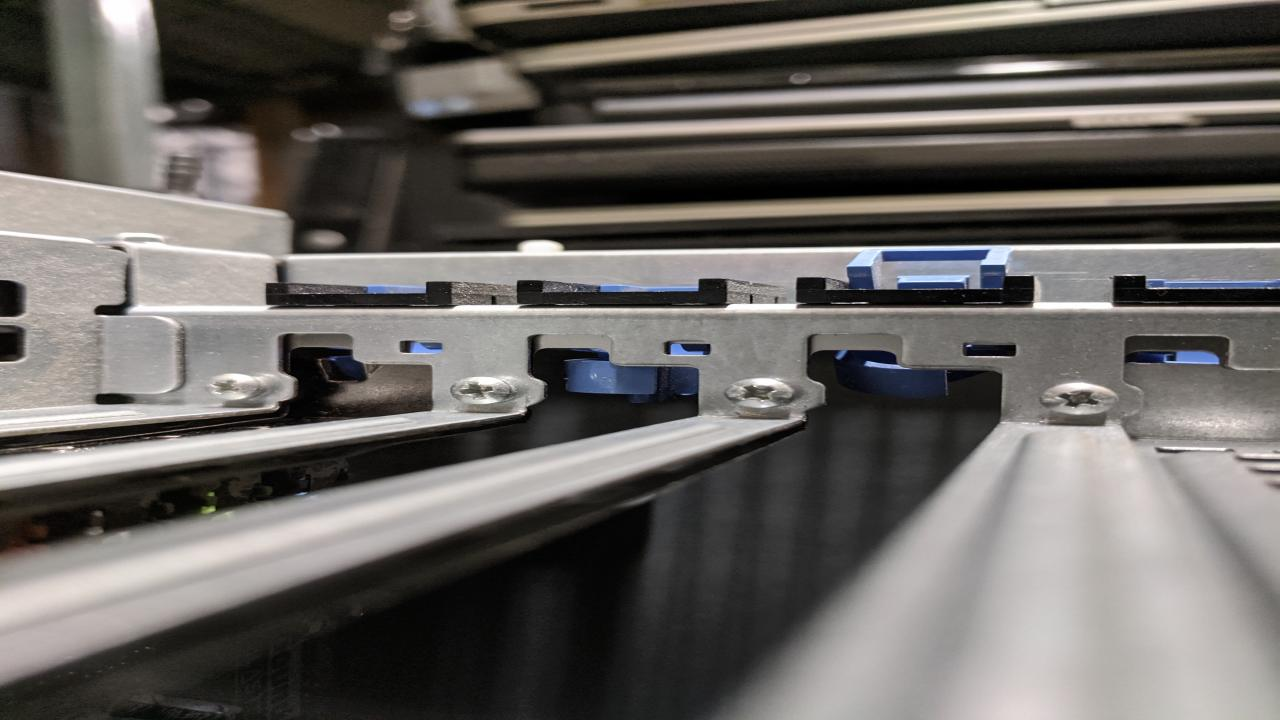CRS: (1036, 378, 1124, 418), (718, 376, 799, 407), (439, 377, 521, 404), (212, 372, 260, 399)
